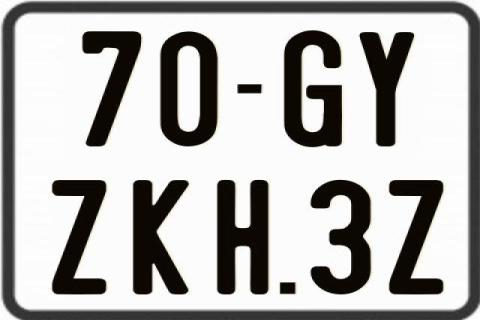0: (309, 179, 374, 296), (80, 31, 141, 146), (160, 29, 218, 147)
G: (283, 29, 342, 151)
H: (218, 179, 272, 297)
K: (132, 179, 192, 296)
Y: (360, 29, 420, 145)
Z: (50, 180, 106, 299), (387, 179, 442, 293)
